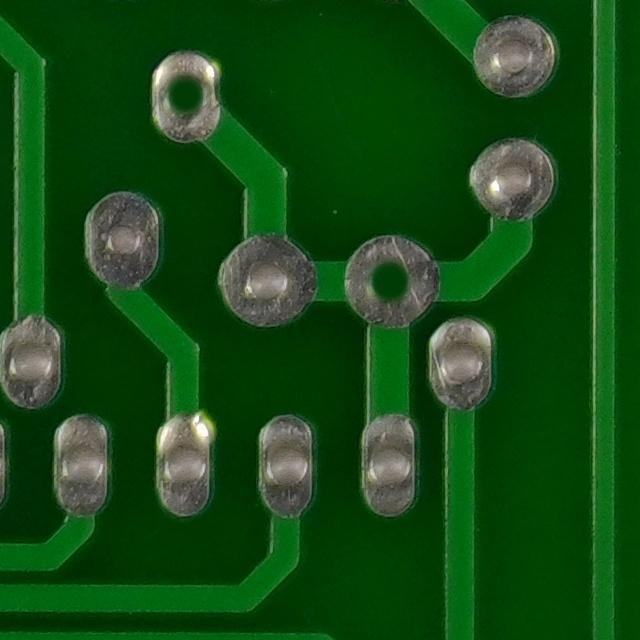missing_hole: (345, 233, 432, 322), (147, 56, 226, 133)
